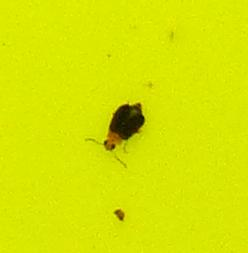Coleoptera: (100, 100, 148, 153)
